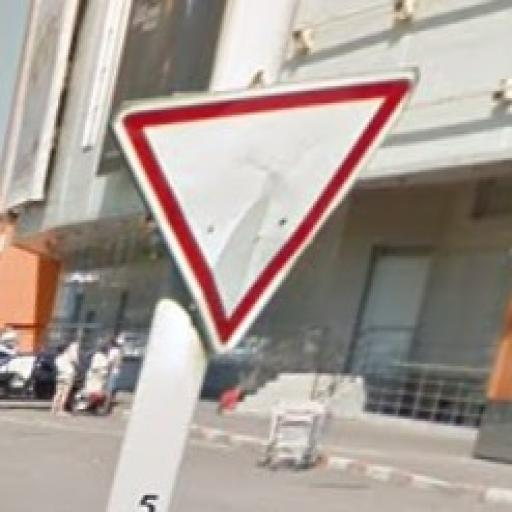traffic_sign: (113, 66, 416, 355)
